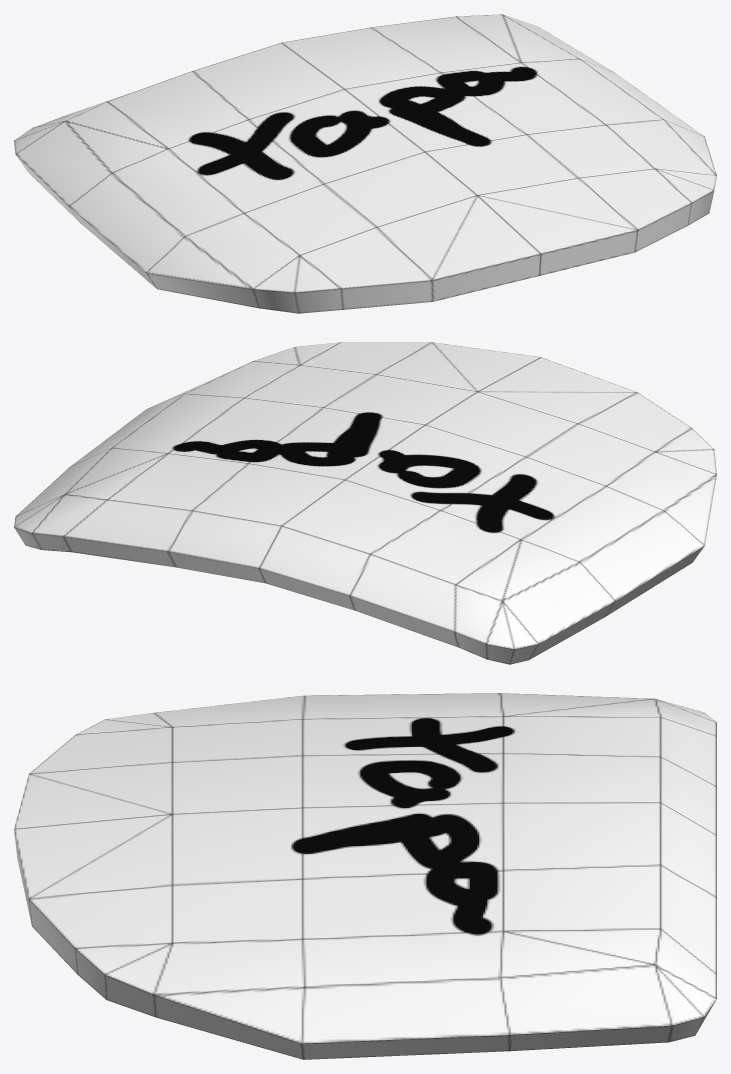
File: DISCMAN_TAPA.fbx
3 views of the same model, one above another, from view 1: azimuth 30°, elevation 25°; view 2: azimuth 150°, elevation 25°; view 3: azimuth 270°, elevation 25° (orthographic). The views are drawn at different scales.
Visible parts, largest first — view 1: DISCMAN_TAPA; view 2: DISCMAN_TAPA; view 3: DISCMAN_TAPA.
Part boxes in pixels (x1,y1,x2,y2): DISCMAN_TAPA: (14, 14, 716, 313); DISCMAN_TAPA: (14, 342, 716, 664); DISCMAN_TAPA: (14, 693, 716, 1059).
Size of the model in its own units: 12.62 by 1.65 by 11.04.
